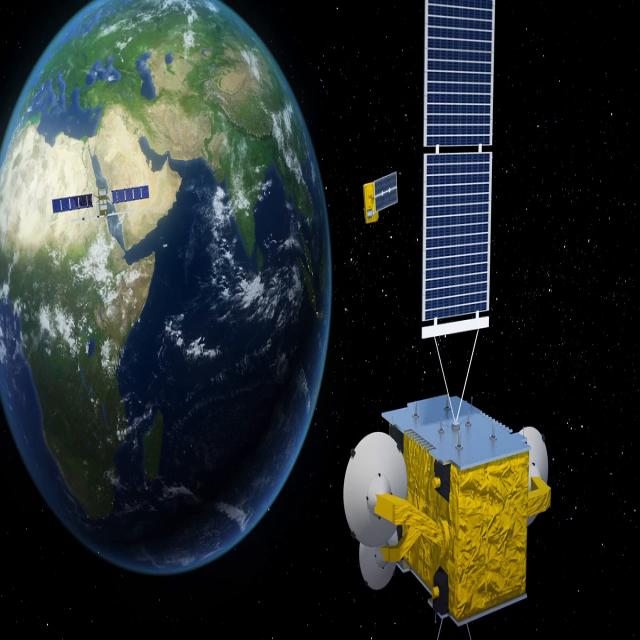medium_debris: (52, 147, 157, 224), (357, 152, 404, 232)
